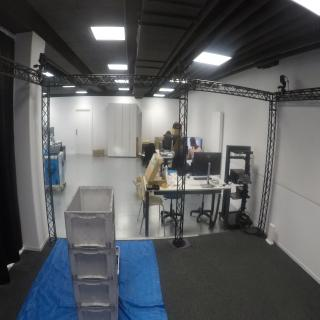Box4G: (65, 185, 119, 251), (70, 225, 118, 286), (70, 272, 123, 313), (76, 287, 121, 320)
